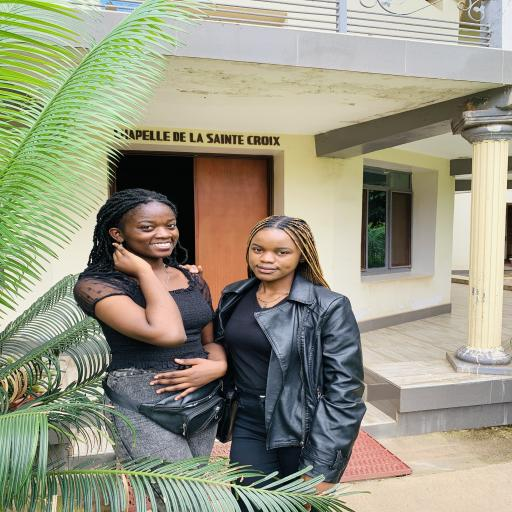LAURENE: (93, 189, 198, 273)
